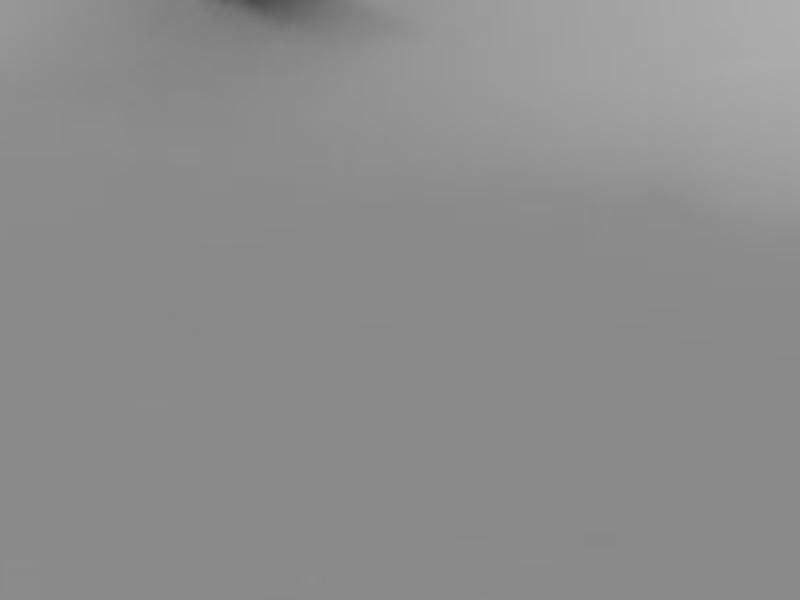defect: (239, 1, 326, 14)
